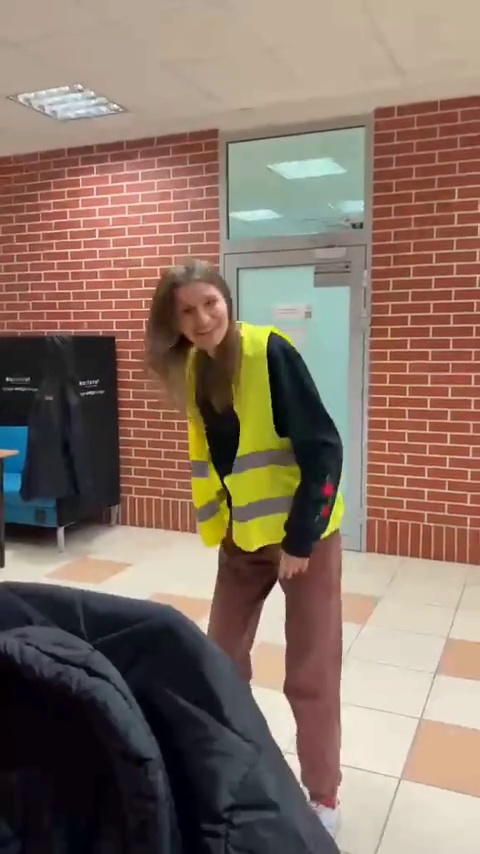vest: (147, 259, 348, 822)
